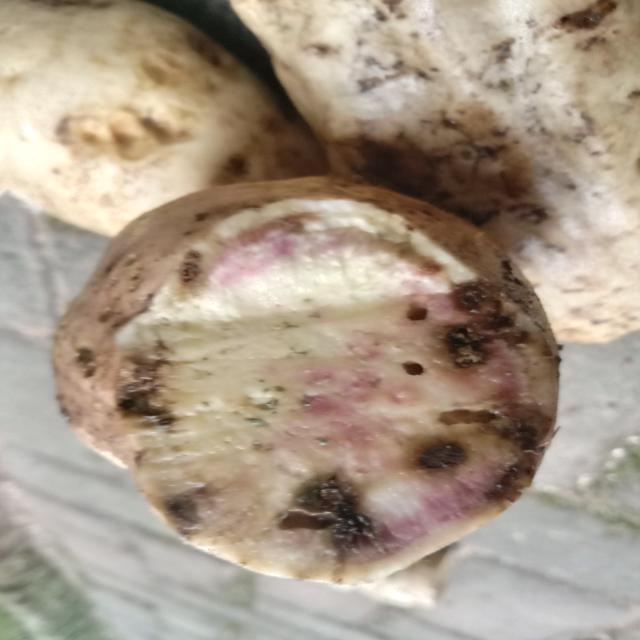Sick Sweet Potato_Tuber Rot: (53, 178, 558, 585)
